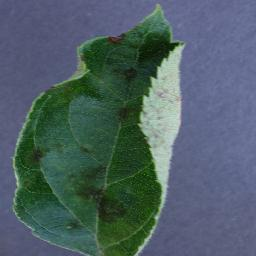apple healthy: (11, 2, 186, 255)
